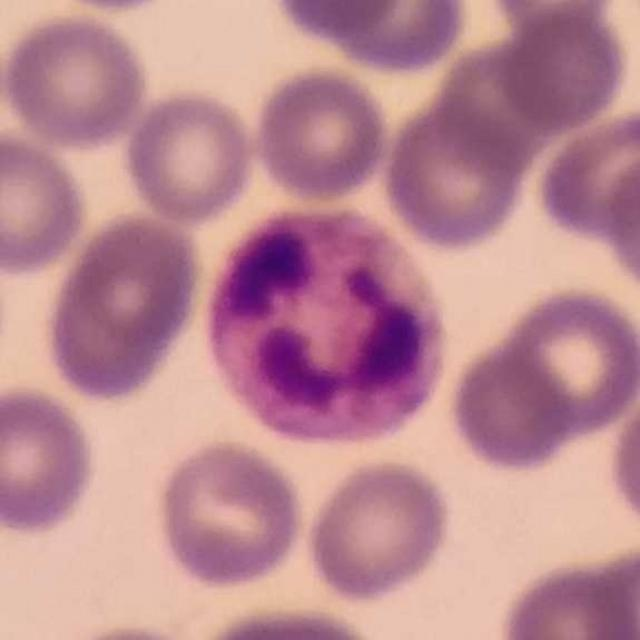Neutrophil: (196, 195, 455, 452)
RBC: (39, 208, 208, 405), (459, 281, 640, 453), (376, 88, 534, 255), (150, 435, 308, 593), (300, 454, 456, 606), (1, 8, 154, 151), (248, 62, 394, 206), (119, 84, 263, 227), (443, 332, 582, 478), (492, 3, 632, 135), (530, 102, 640, 250), (0, 381, 101, 538), (0, 126, 92, 279), (493, 552, 640, 640), (305, 0, 471, 77), (190, 602, 393, 640), (266, 0, 413, 45), (481, 0, 626, 45), (603, 370, 640, 546), (600, 145, 640, 307), (577, 540, 640, 639)
